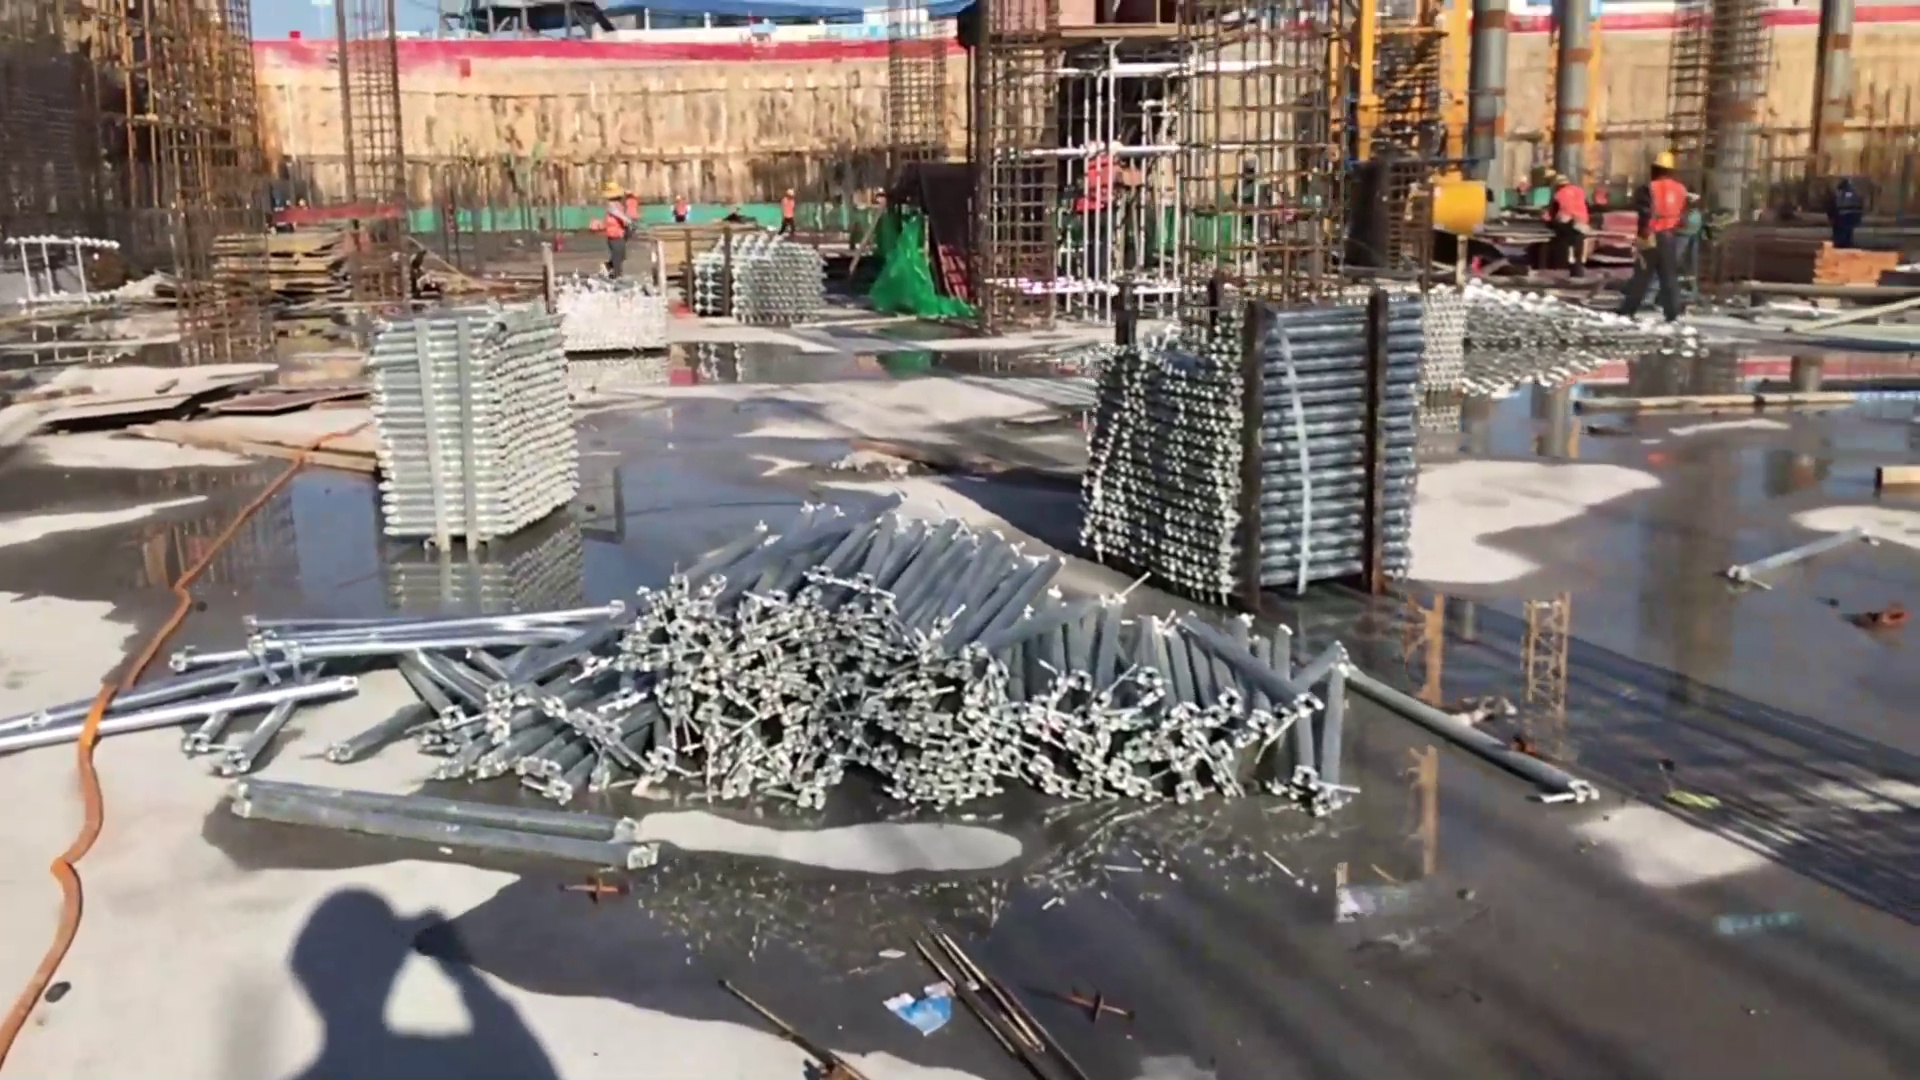board: (208, 224, 342, 292)
helmet: (1651, 152, 1677, 171)
person: (1628, 146, 1686, 322), (1542, 162, 1590, 265), (600, 181, 632, 277), (773, 180, 805, 245), (661, 189, 693, 235)
scaffold: (1082, 301, 1421, 593), (670, 530, 988, 812), (375, 311, 577, 535)
vest: (1642, 174, 1686, 240), (1552, 185, 1590, 219)
